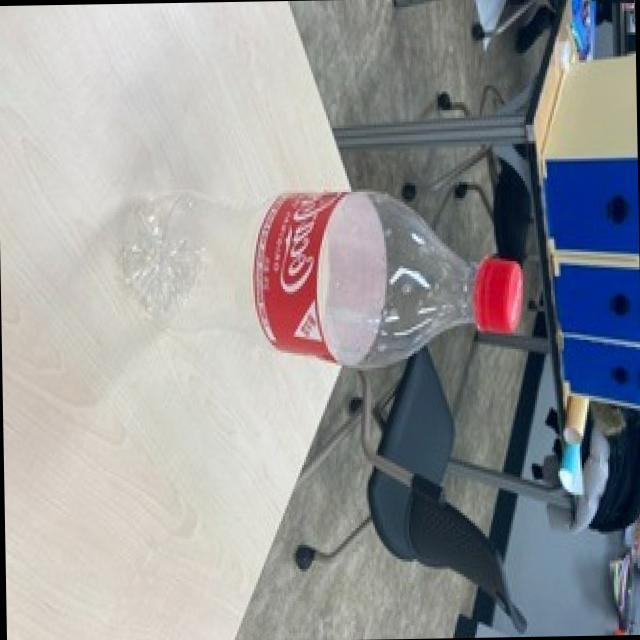good: (110, 176, 529, 381)
